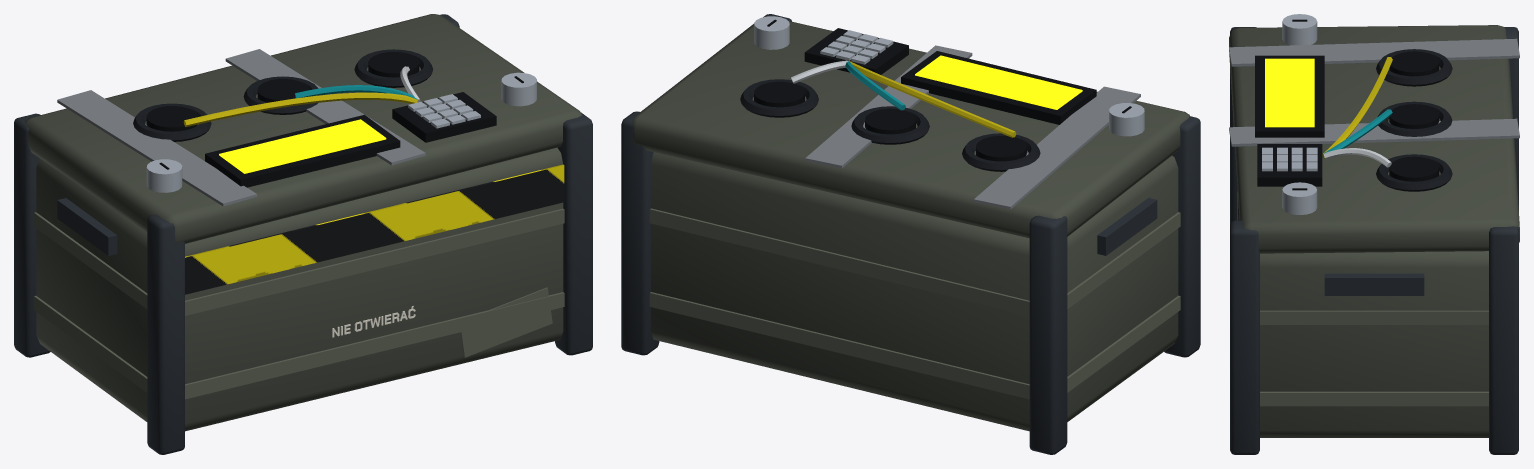
The model's file is bomb.glb.
3 views of the same model, side by side, from view 1: azimuth 30°, elevation 25°; view 2: azimuth 150°, elevation 25°; view 3: azimuth 270°, elevation 25° (orthographic). The views are drawn at different scales.
Visible parts, largest first — view 1: Body, SlotRing2, SlotRing0, SlotRing1; view 2: Body, SlotRing2, SlotRing1, SlotRing0; view 3: Body, SlotRing2, SlotRing0, SlotRing1.
Part boxes in pixels (x1,y1,x2,y2): Body: (14, 14, 592, 454); SlotRing2: (354, 49, 433, 87); SlotRing0: (133, 103, 211, 141); SlotRing1: (243, 76, 318, 114); Body: (621, 14, 1200, 454); SlotRing2: (740, 79, 818, 117); SlotRing1: (851, 106, 929, 144); SlotRing0: (962, 133, 1040, 171); Body: (1229, 14, 1519, 454); SlotRing2: (1376, 154, 1452, 191); SlotRing0: (1376, 49, 1452, 86); SlotRing1: (1377, 101, 1452, 136).
Size of the model in its own units: 0.9952 by 0.5527 by 0.5842.
Materials: 13 (1 with a texture image).
